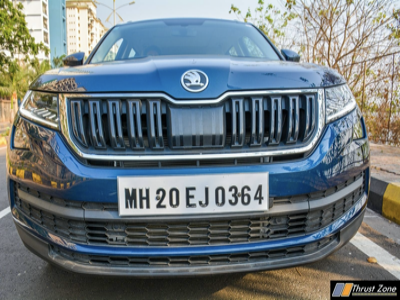licence: (116, 175, 273, 211)
